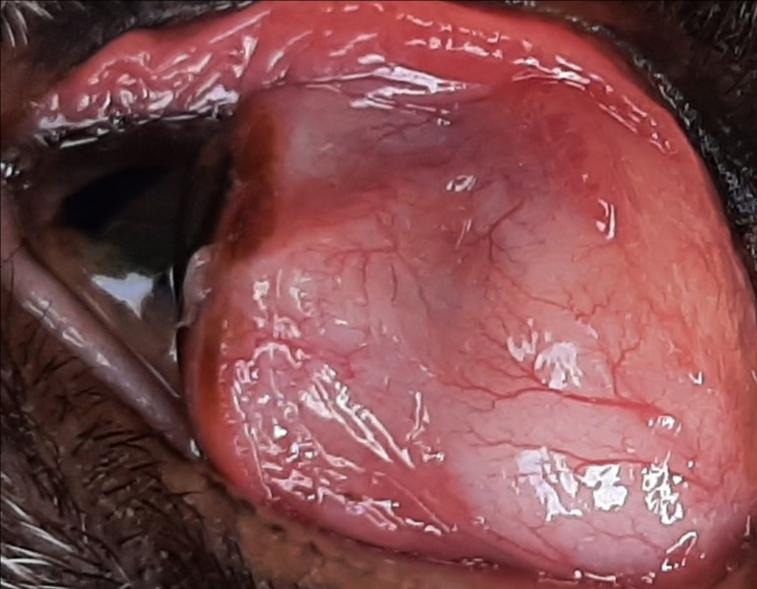eye_membrane: (40, 4, 757, 586)
